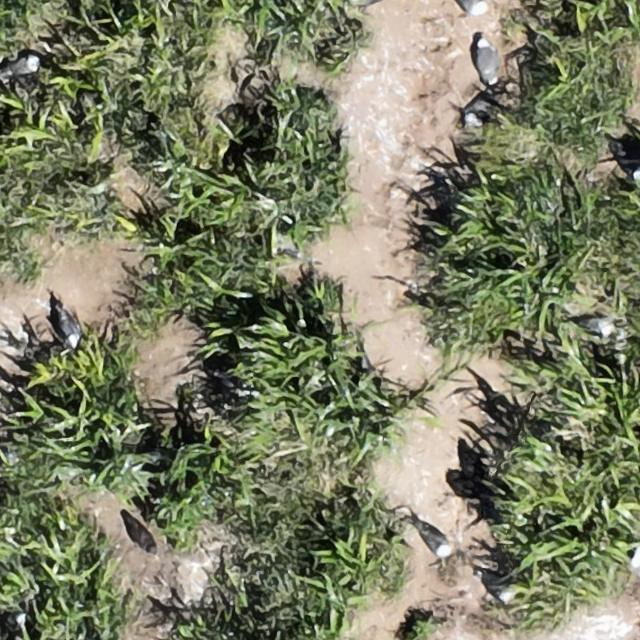umineko: (463, 78, 512, 132), (478, 570, 517, 604), (609, 141, 638, 180), (422, 528, 451, 558), (2, 55, 40, 76), (478, 43, 498, 82), (59, 312, 80, 348), (580, 318, 612, 336), (457, 0, 485, 14)
